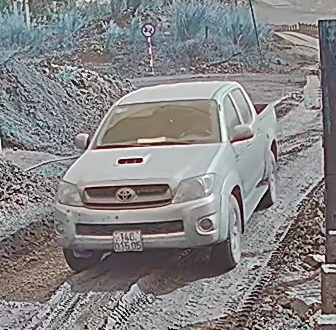vehicle plate: (109, 227, 144, 252)
